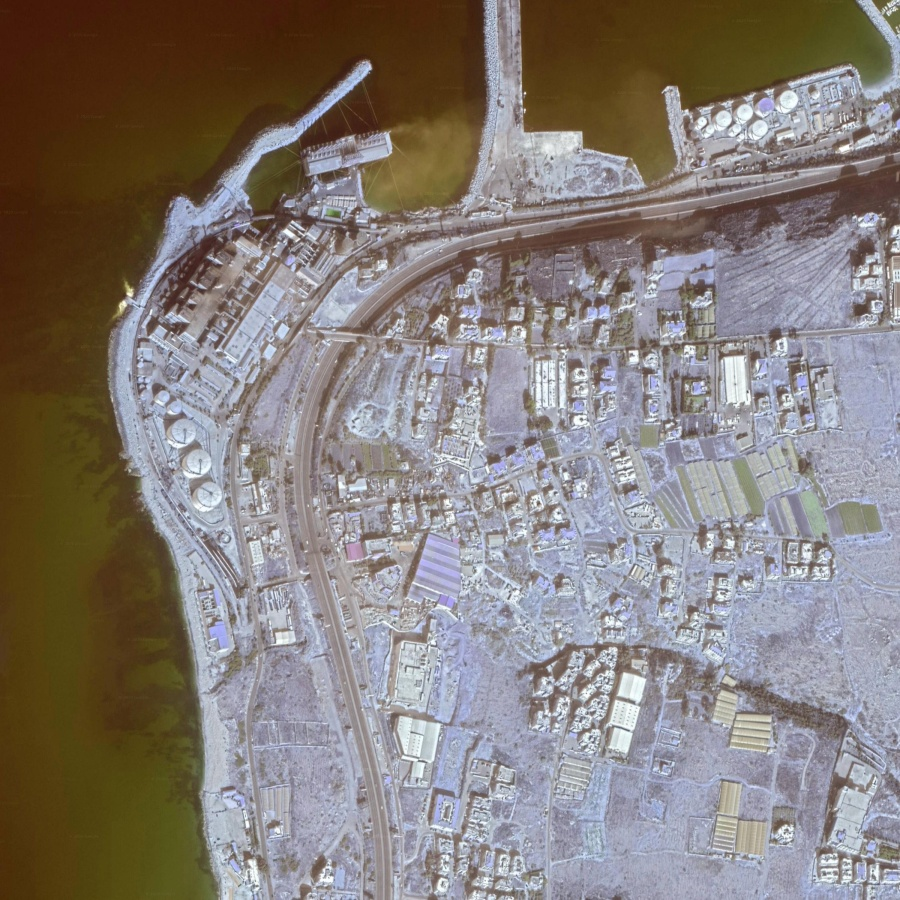PowerPlant: (100, 118, 396, 516)
